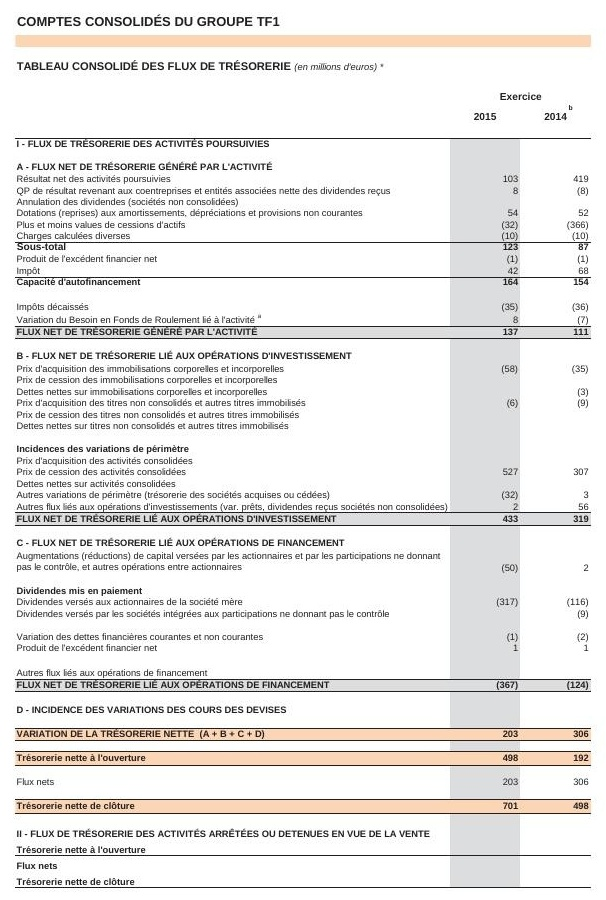table: (0, 0, 606, 900)
